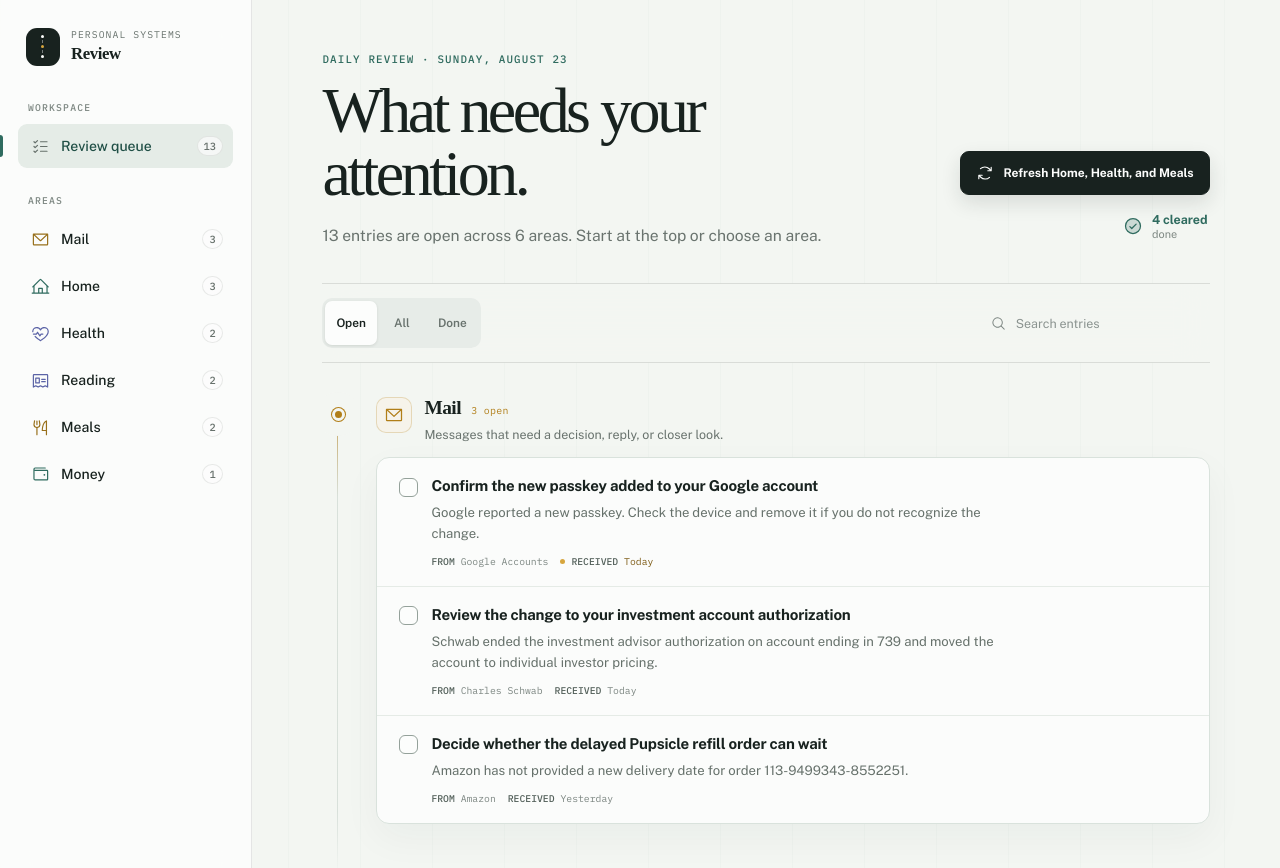
Test case: ReviewApp › shows which bulk area failed while reloading the areas that actually updated
Check: the heading "Mail" is shown, box [424,397,461,419]
Step 1. Click the button "Refresh Home, Health, and Meals" → point(1085, 173), box [960,151,1210,195]
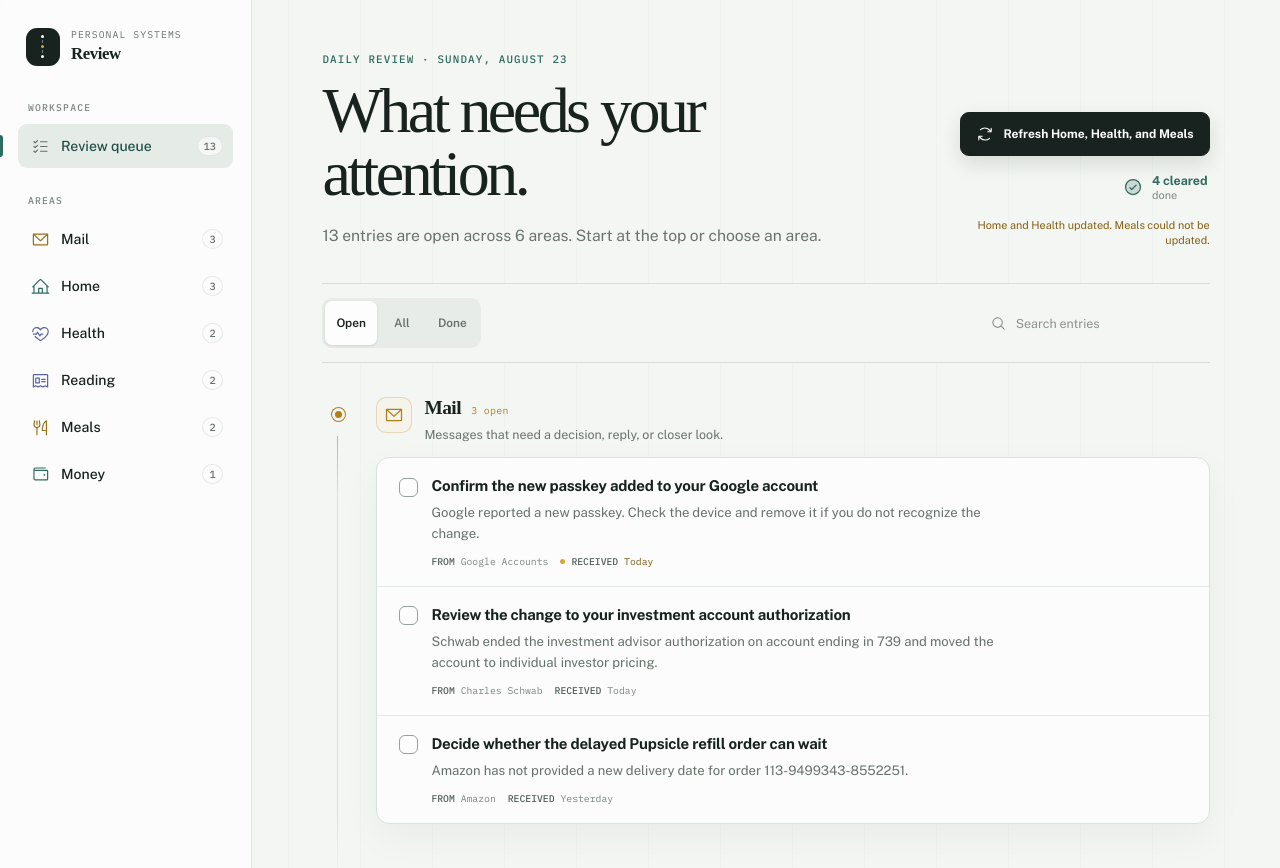
Check: the text "Home and Health updated. Meals could not be updated." is shown, box [946,218,1210,249]
